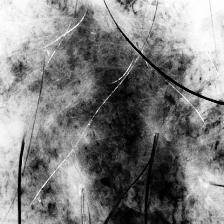Benign Marking or Mole: (10, 13, 214, 224)
